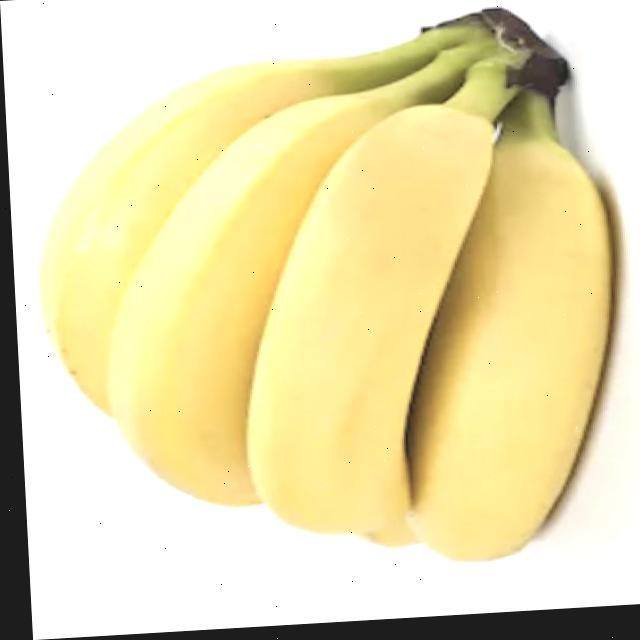banana: (21, 12, 621, 586)
